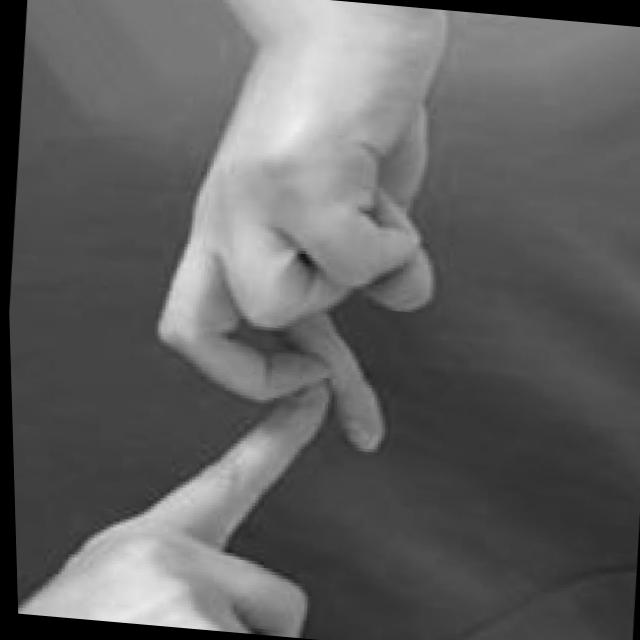R: (0, 0, 473, 640)
